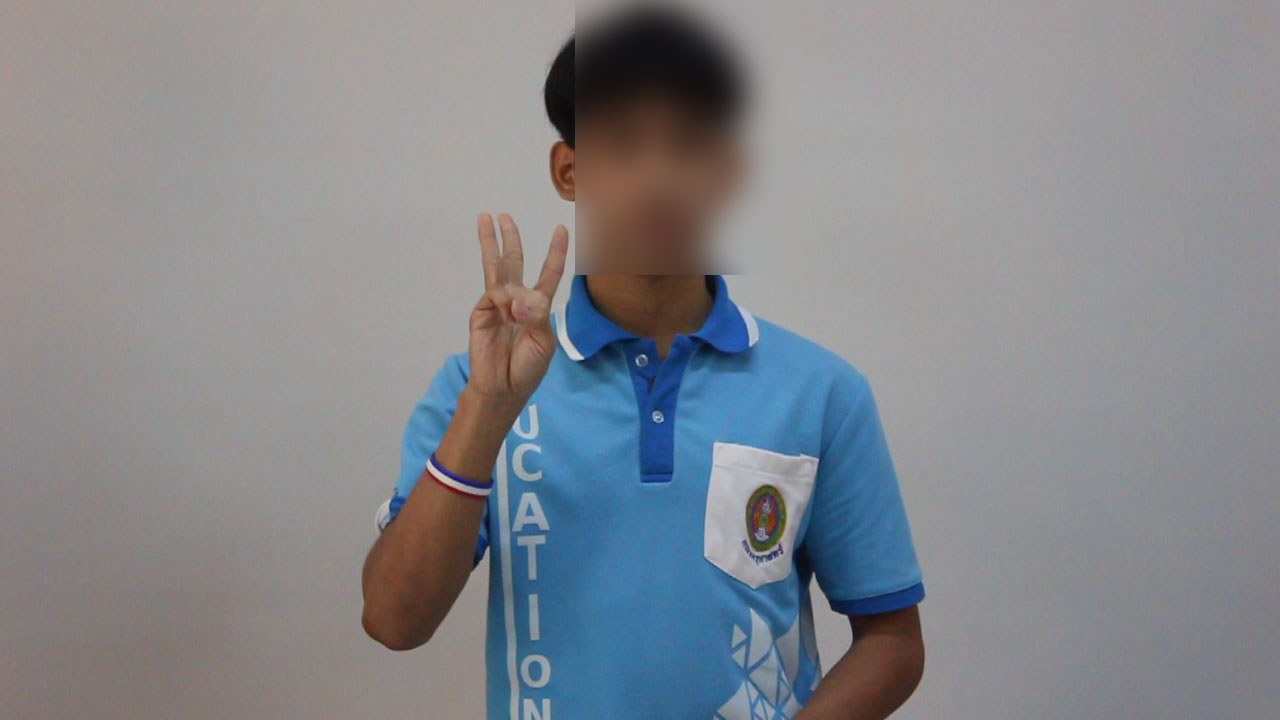wor: (458, 204, 574, 425)
